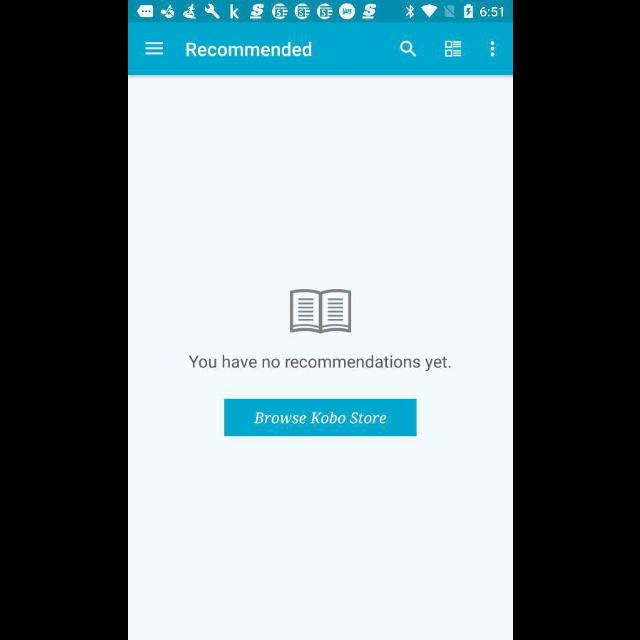icon: (399, 41, 416, 58), (144, 42, 164, 56), (490, 41, 494, 58)
image: (289, 290, 351, 334), (444, 42, 461, 58)
text: (189, 354, 451, 372), (185, 42, 311, 58)
textbutton: (224, 398, 416, 436)
toolbar: (128, 24, 512, 74)
uppertaskbar: (128, 1, 512, 23)
